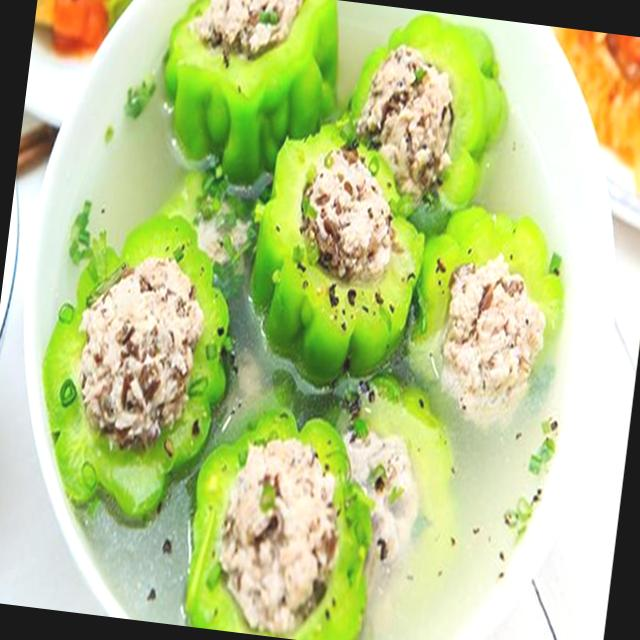kho qua: (42, 212, 228, 519), (251, 125, 424, 380), (184, 411, 372, 640), (343, 13, 506, 235), (411, 205, 563, 425), (164, 0, 337, 181)
